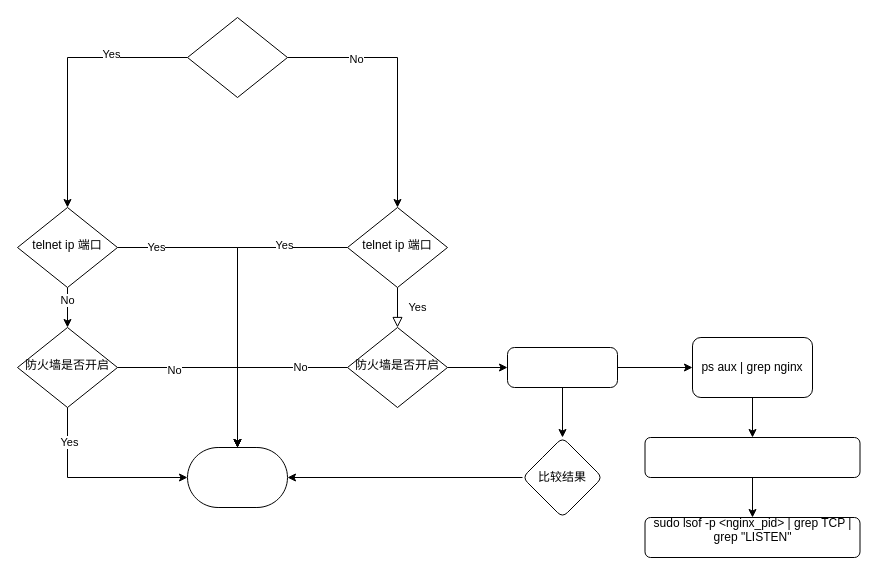
Image size: 878x576. Some labels were removed from this diagram. Here are the shapes that lost their labels. From the top down, the centre of each, then its label:
the point at 237,57: 是否是server
the point at 562,367: 脚本检测下一跳proxy机器nginx相关配置
the point at 237,477: end
the point at 752,457: sudo lsof -i -P -n | grep <nginx_pid>
